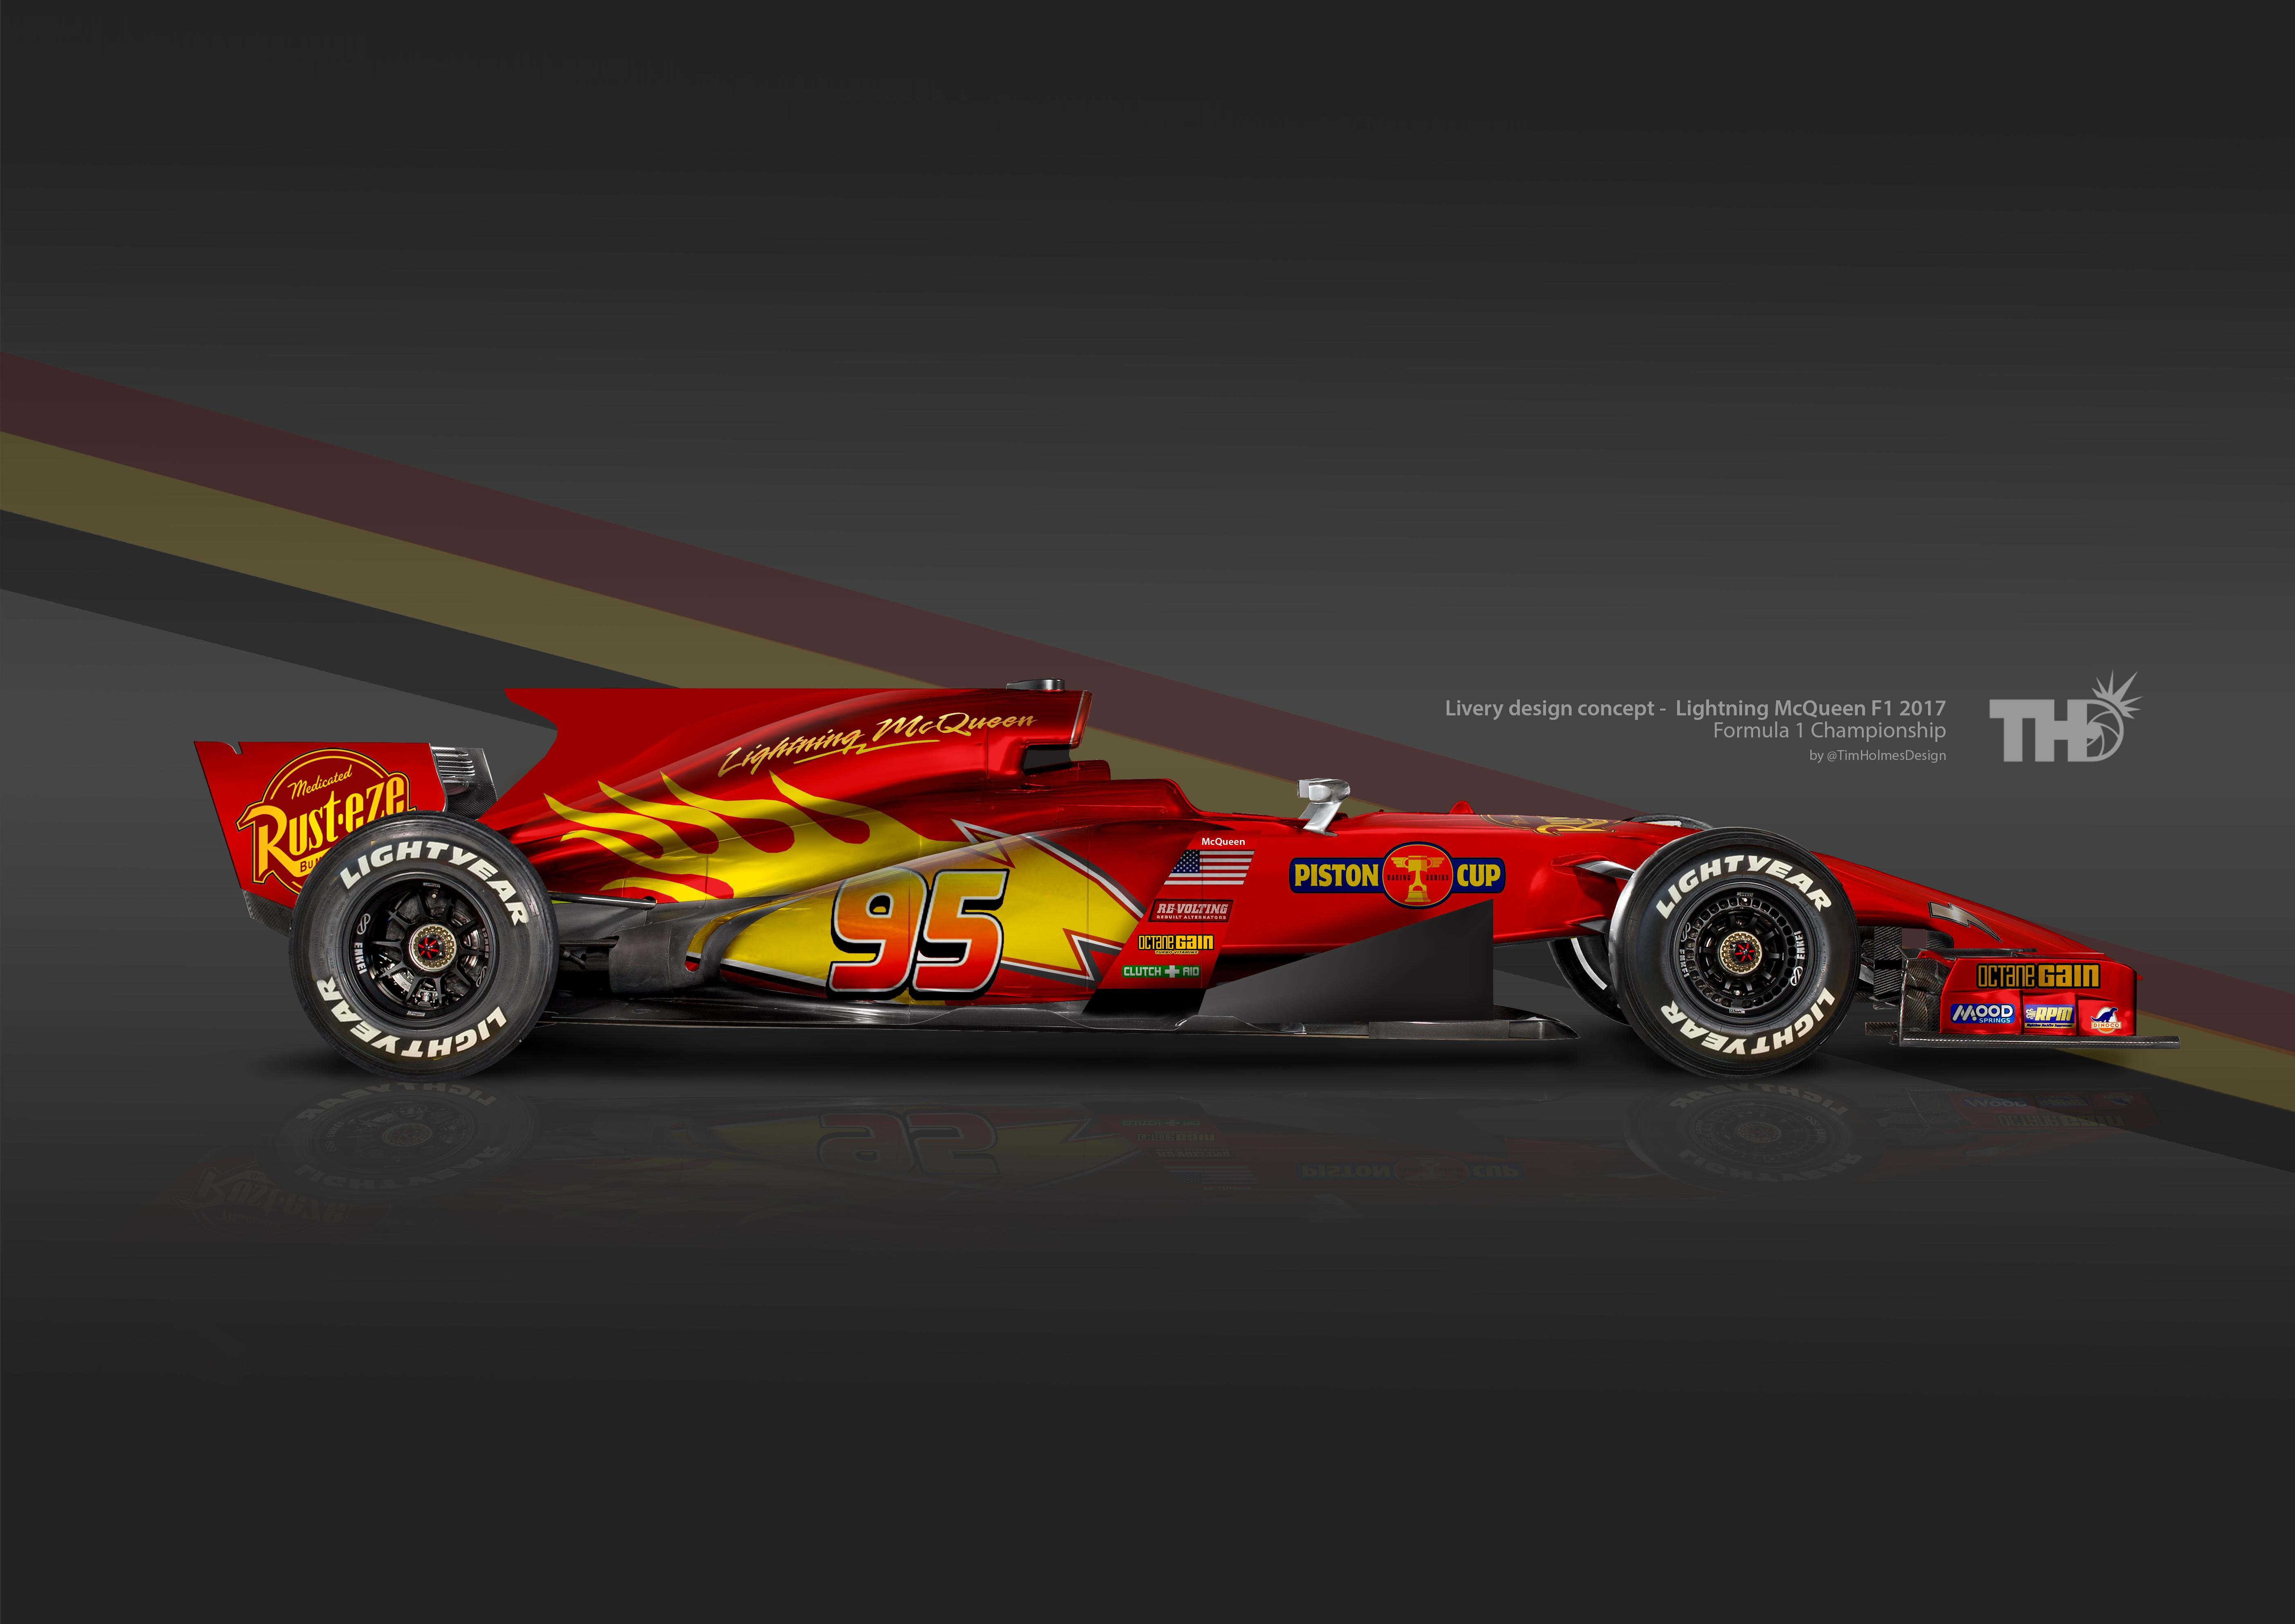f1_car: (176, 652, 2212, 1114)
